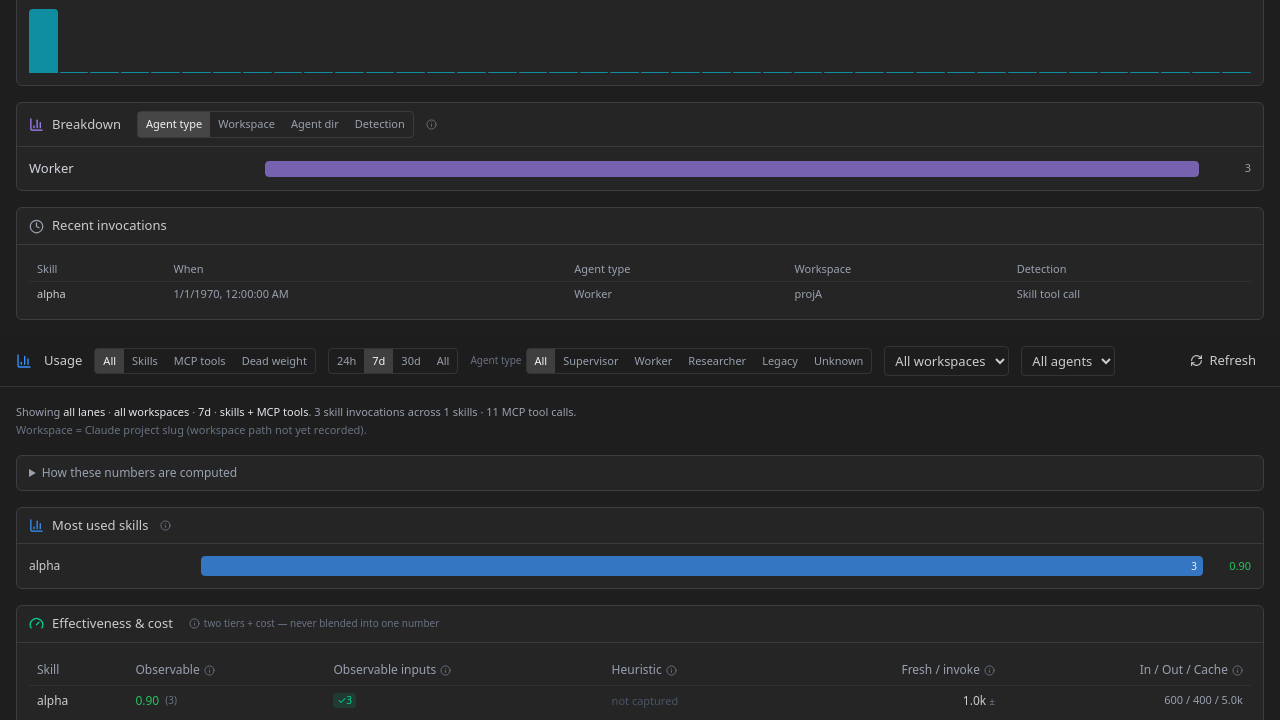
SkillAnalyticsPanel (Usage) › Dead-weight view renders an honest "pending" state (no fabricated numbers)
The image size is (1280, 720).
(page scrolled)
Click the button "Dead weight": (274, 361) [234,349,315,373]
(page scrolled)
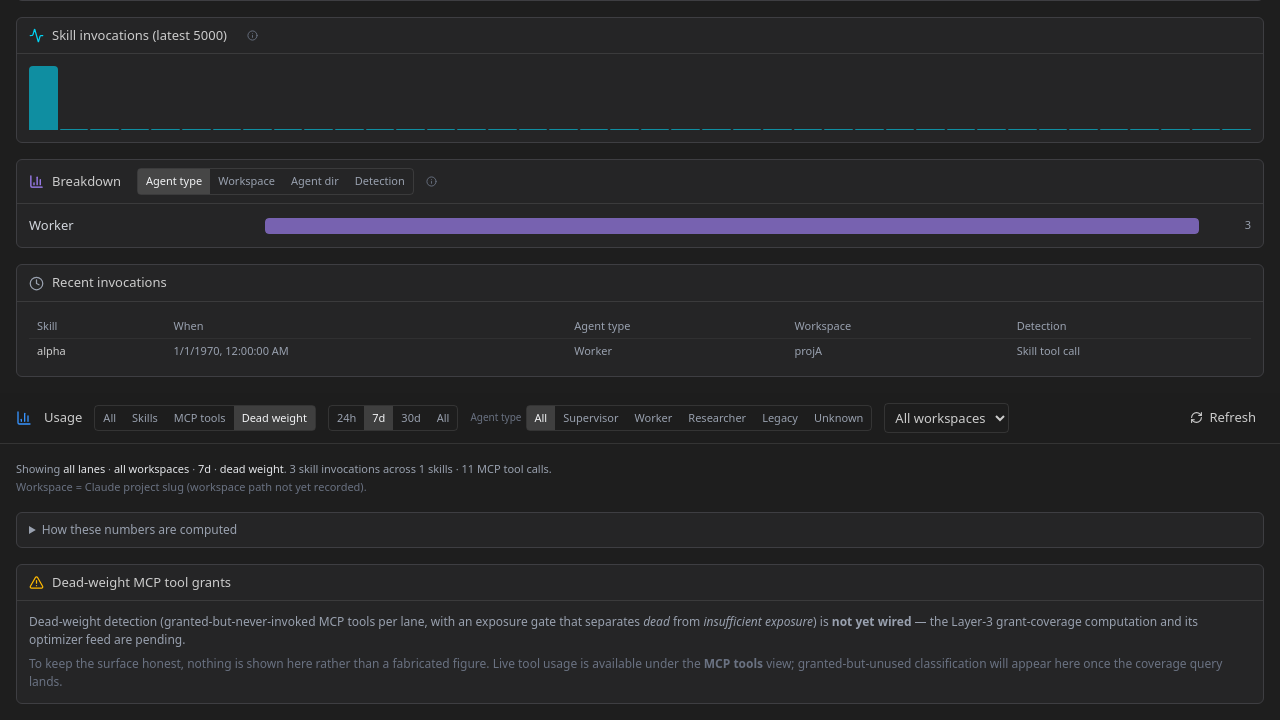
Check: the text "Dead-weight MCP tool grants" is shown, box [52,573,231,592]
